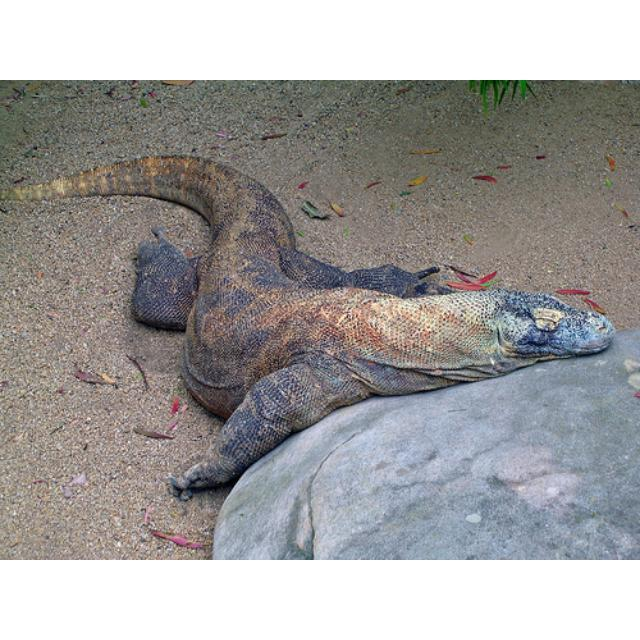KomodoDragon: (1, 153, 612, 501)
